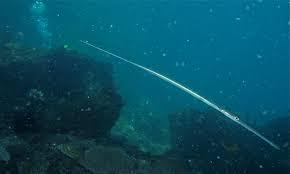Fistularia commersonii: (74, 25, 288, 156)
